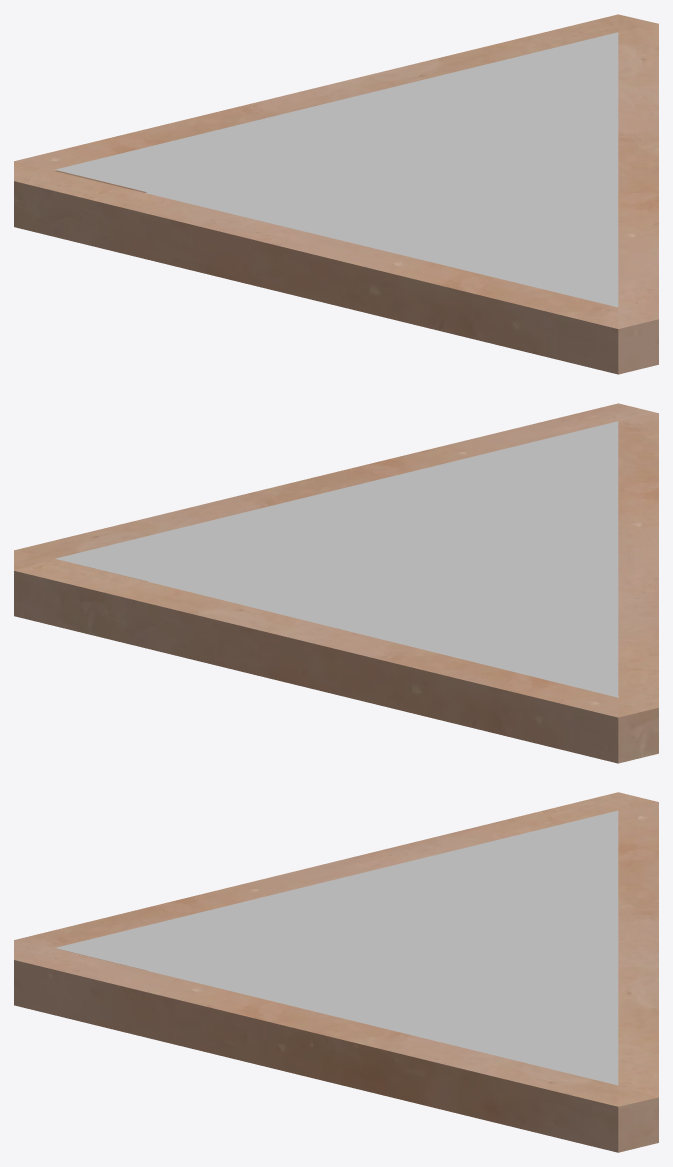
3 renders of one model, top to bottom at view 1: azimuth 30°, elevation 25°; view 2: azimuth 150°, elevation 25°; view 3: azimuth 270°, elevation 25°, orthographic.
Parts seen in each view (by area): view 1: SM_BB_T4_Floor_Triangle_Large_01_LOD0; view 2: SM_BB_T4_Floor_Triangle_Large_01_LOD0; view 3: SM_BB_T4_Floor_Triangle_Large_01_LOD0.
Part boxes in pixels (bbox=[...]): SM_BB_T4_Floor_Triangle_Large_01_LOD0: bbox=[14, 14, 658, 374]; SM_BB_T4_Floor_Triangle_Large_01_LOD0: bbox=[14, 403, 658, 763]; SM_BB_T4_Floor_Triangle_Large_01_LOD0: bbox=[14, 792, 658, 1152].
Size of the model in its own units: 3.43 by 0.2414 by 2.97.
